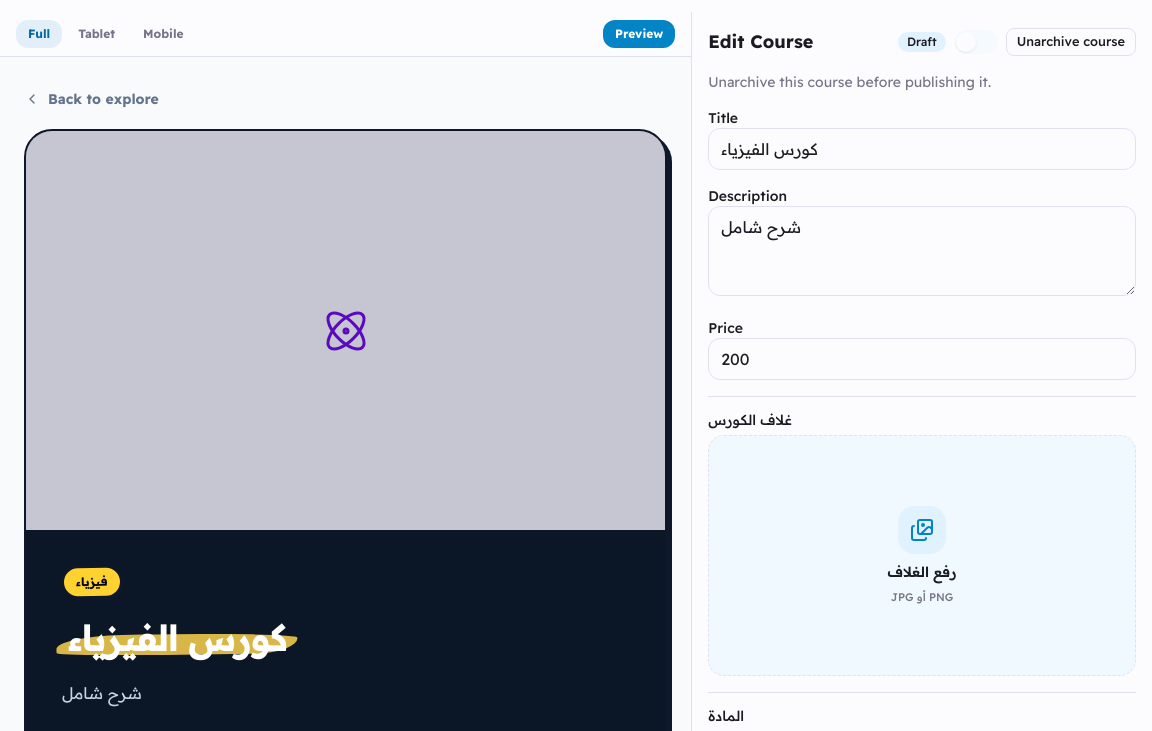
CourseWorkspace › shows inline error when unarchive mutation fails
Click the button "Unarchive course": (1071, 42) 1006,28 -> 1136,56
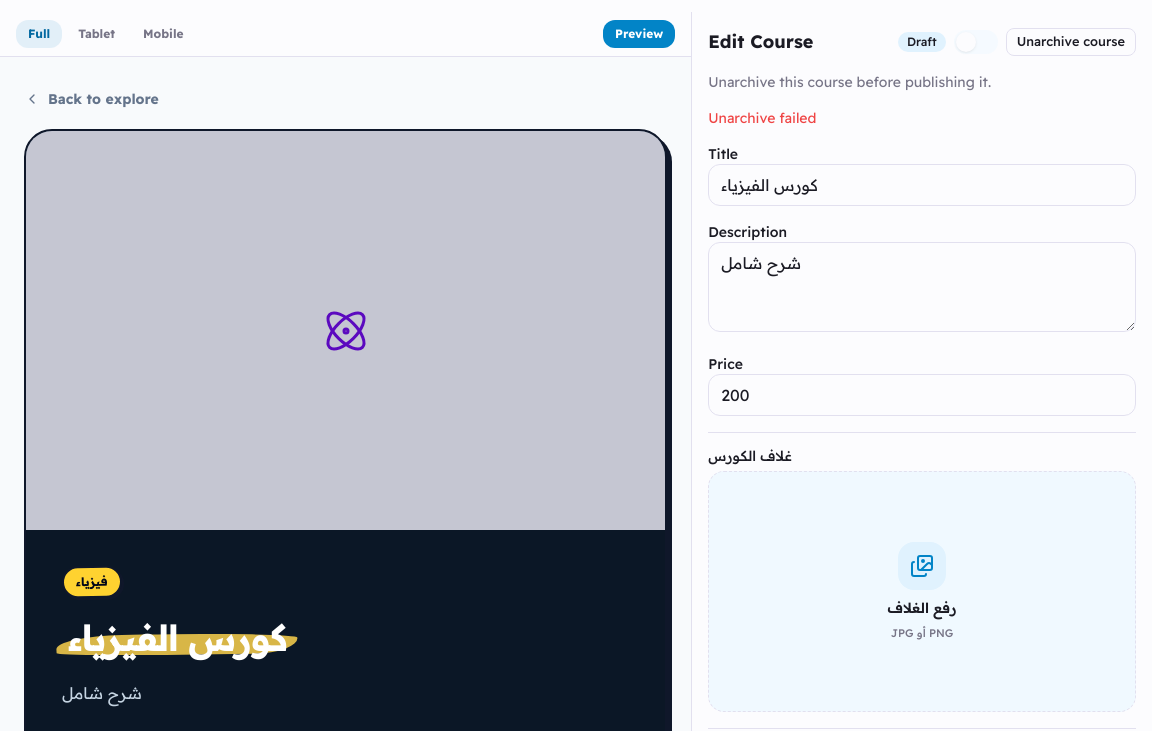
Expected: the message reads "Unarchive failed", 708,109 -> 816,127
